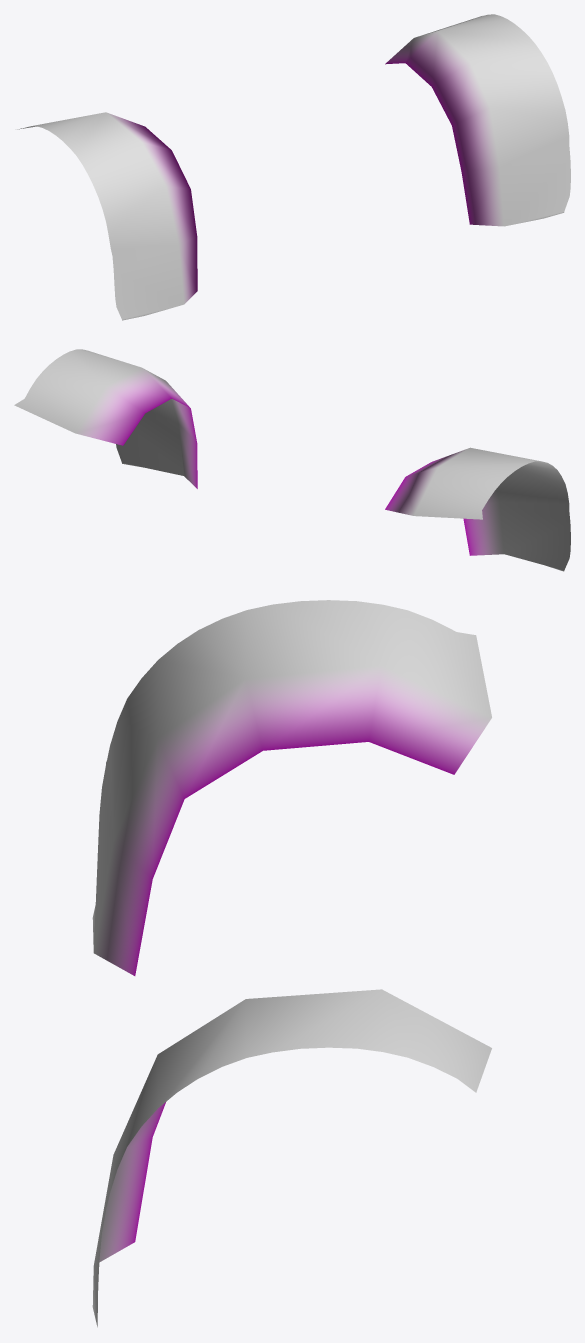
File: Car_Nissan_SkylineGTRVspecR34_1999_FendersChassisR_SetE.fbx
3 renders of one model, top to bottom at view 1: azimuth 30°, elevation 25°; view 2: azimuth 150°, elevation 25°; view 3: azimuth 270°, elevation 25°, orthographic. The views are drawn at different scales.
Parts seen in each view (by area): view 1: FendersChassisR 5; view 2: FendersChassisR 5; view 3: FendersChassisR 5.
Boxes of the visible parts, x1=… form: FendersChassisR 5: x1=17, y1=14, x2=570, y2=320; FendersChassisR 5: x1=14, y1=349, x2=570, y2=571; FendersChassisR 5: x1=92, y1=600, x2=491, y2=1327.
Size of the model in its own units: 1.76 by 0.5197 by 0.6503.
